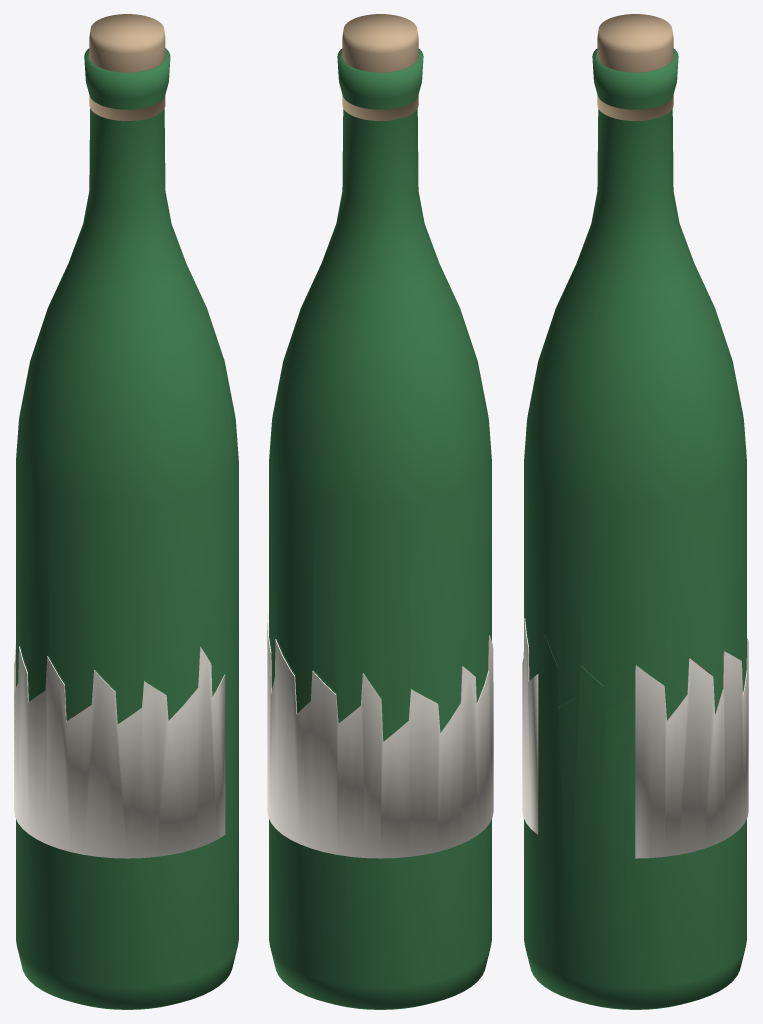
The model's file is bottle_wine_broken.glb.
3 renders of one model, left to right at view 1: azimuth 30°, elevation 25°; view 2: azimuth 150°, elevation 25°; view 3: azimuth 270°, elevation 25°, orthographic.
Visible parts, largest first — view 1: Neck, Glass, Label, Cap; view 2: Neck, Label, Glass, Cap; view 3: Neck, Glass, Label, Cap.
Part boxes in pixels (<box>): Neck: <box>16,48,238,722</box>; Glass: <box>16,628,238,1009</box>; Label: <box>14,642,225,858</box>; Cap: <box>89,14,165,120</box>; Neck: <box>269,48,491,740</box>; Label: <box>267,614,493,858</box>; Glass: <box>269,620,491,1009</box>; Cap: <box>342,14,418,120</box>; Neck: <box>524,48,746,718</box>; Glass: <box>524,619,746,1009</box>; Label: <box>522,618,748,858</box>; Cap: <box>597,14,673,120</box>.
Bounding box in the file's own units: 0.0762 × 0.35 × 0.0762.
